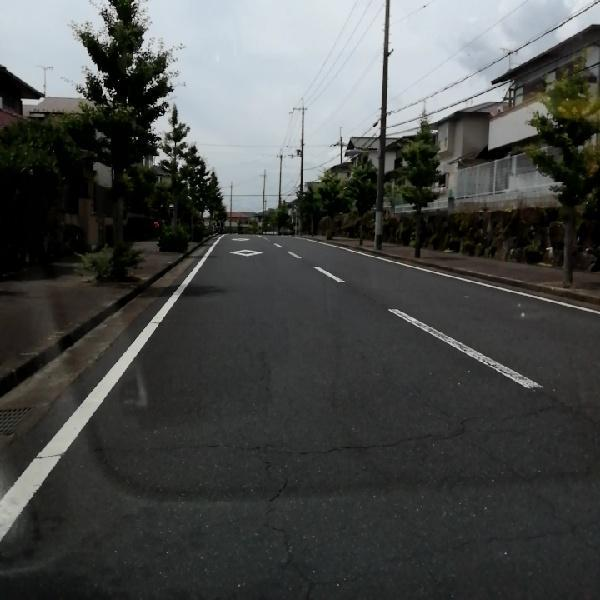D00: (255, 456, 303, 584)
D10: (85, 400, 547, 453), (393, 511, 587, 565)
